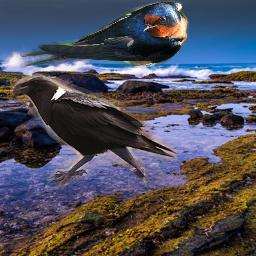Crow: (10, 73, 177, 190)
Swallow: (20, 0, 189, 68)
